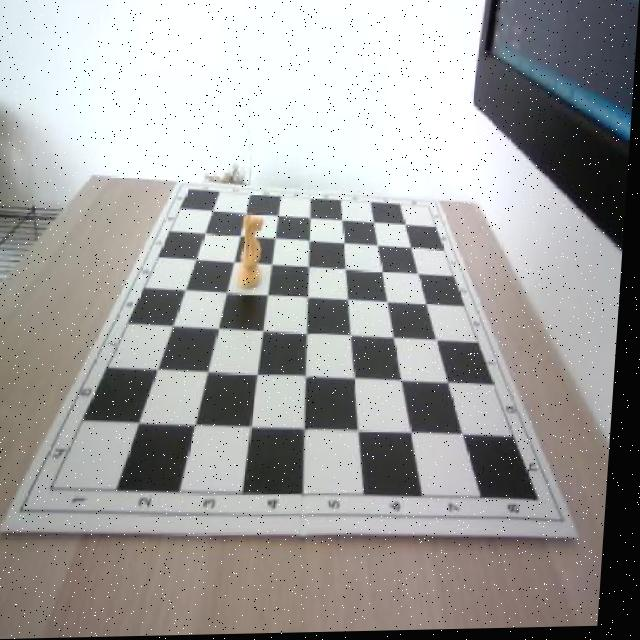white-king: (242, 214, 270, 291)
